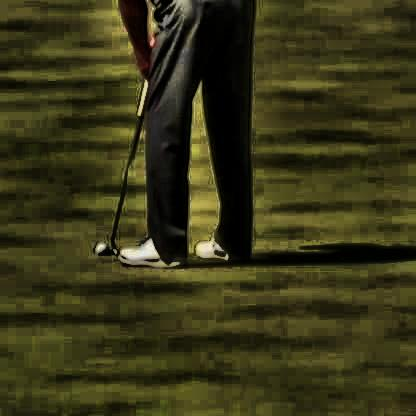golfball: (90, 241, 108, 254)
